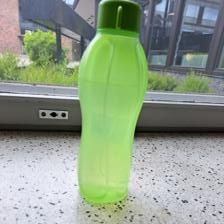bottle: (65, 1, 157, 208)
